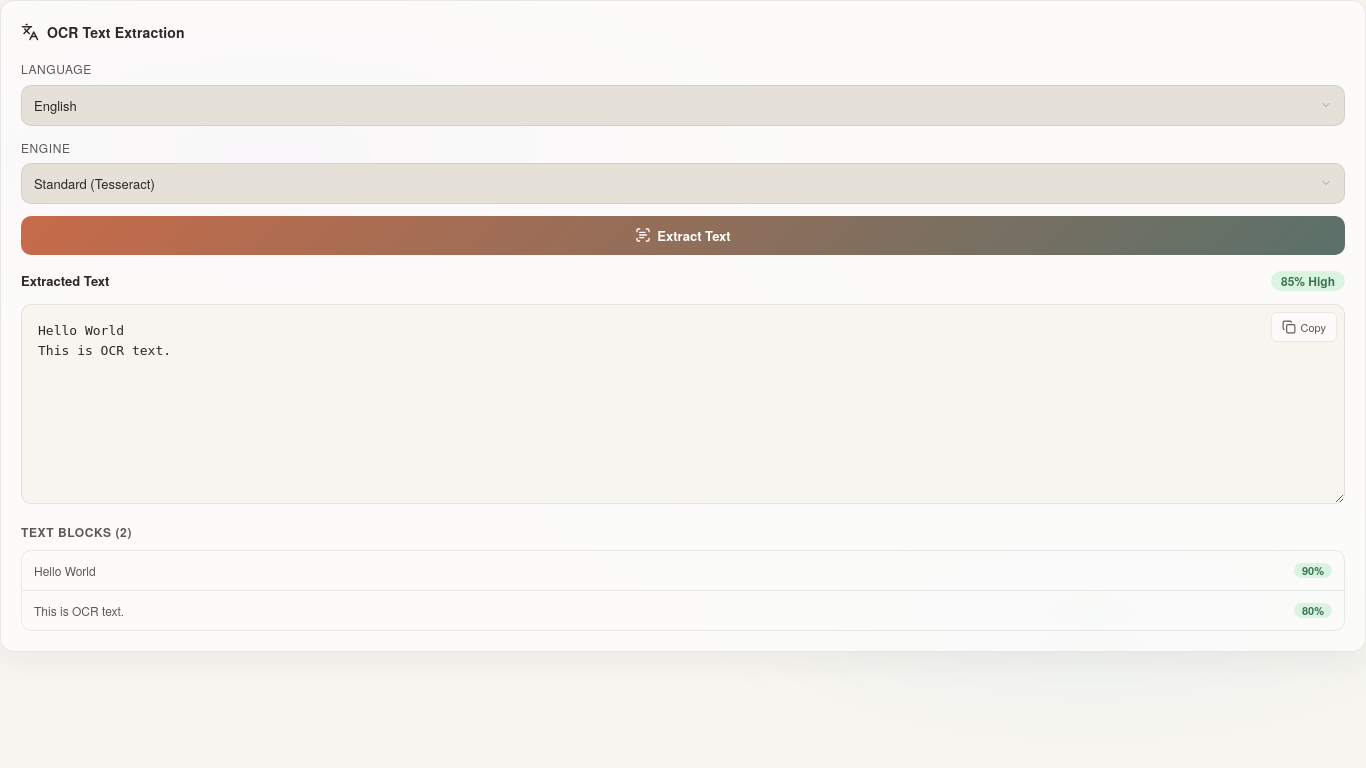
Test: OcrPanel Component › handles copying to clipboard
What coordinates should you click on to do the following:
click the button "Copy"
I would click on:
 (1304, 327)
Its box is 1272,312 -> 1337,342.
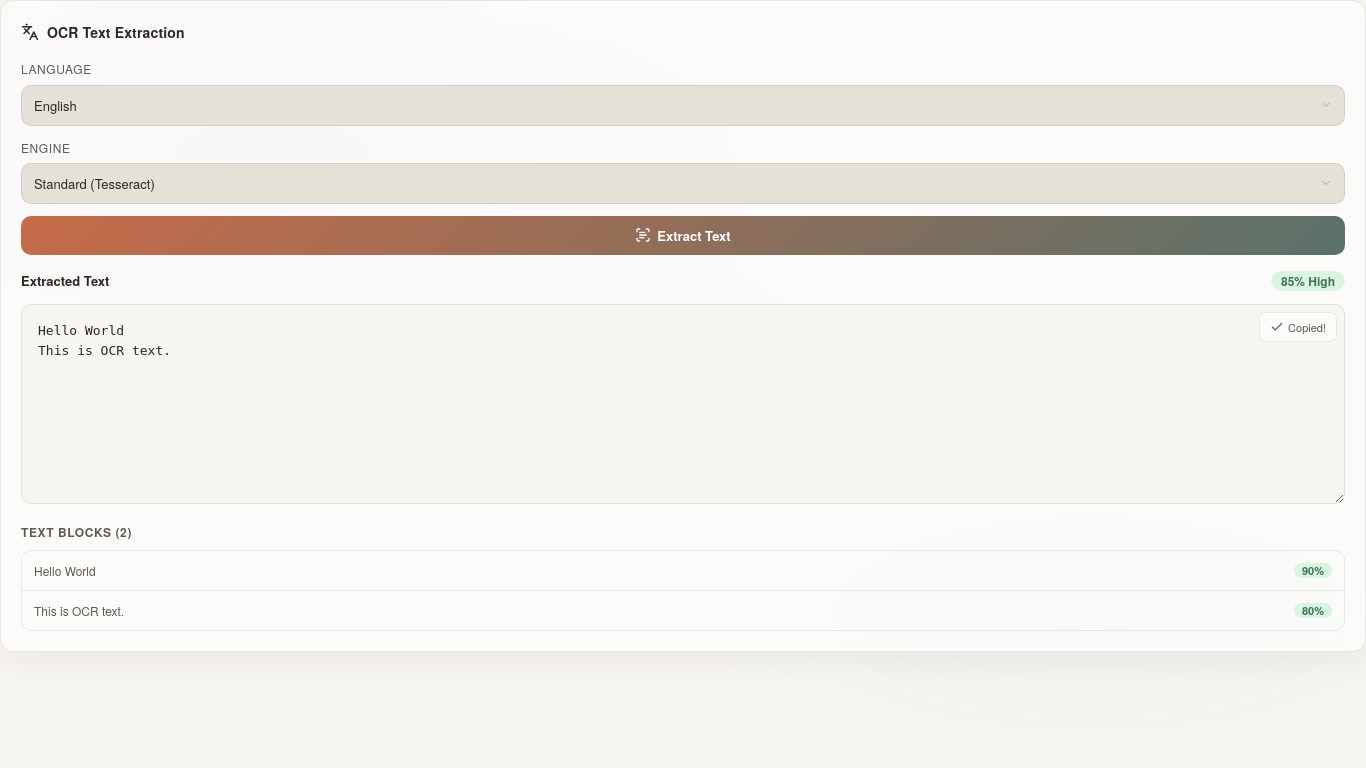
Check: the text "Copied!" is shown, box 1288,319 -> 1326,335
